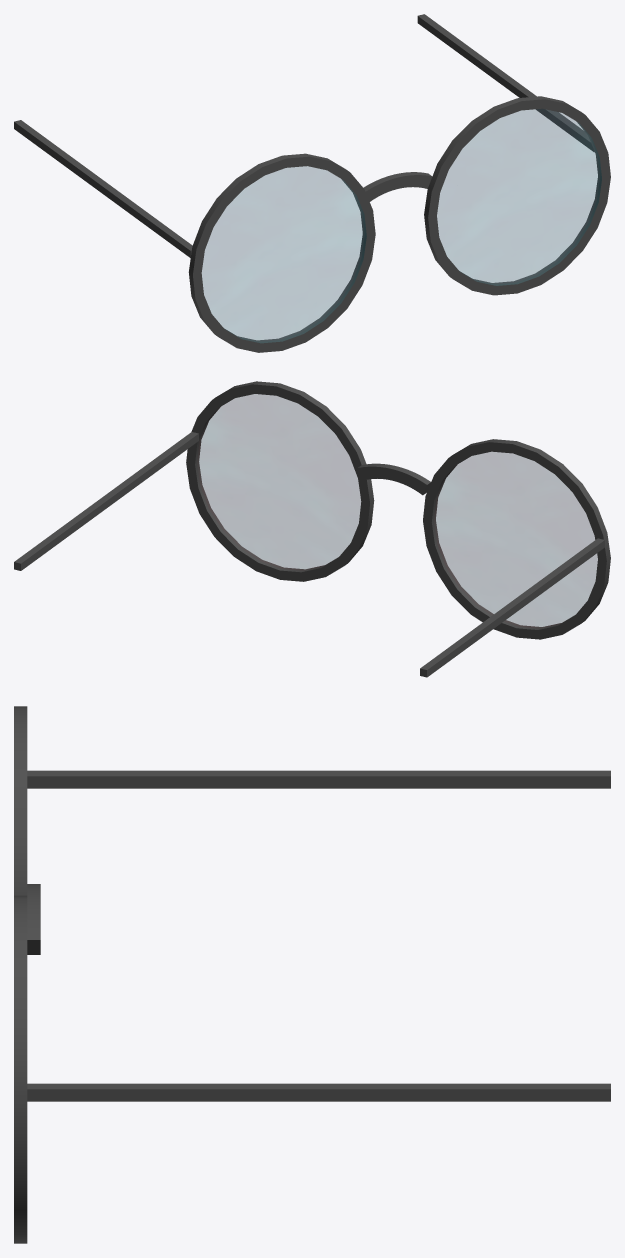
File: glasses.fbx
3 renders of one model, top to bottom at view 1: azimuth 30°, elevation 25°; view 2: azimuth 150°, elevation 25°; view 3: azimuth 270°, elevation 25°, orthographic. The views are drawn at different scales.
Parts seen in each view (by area): view 1: Glasses1; view 2: Glasses1; view 3: Glasses1.
Boxes of the visible parts, x1,y1,x2,y2 form: Glasses1: (14,14,610,352); Glasses1: (14,381,610,677); Glasses1: (14,706,610,1243).
Bounding box in the file's own units: 1.19 × 0.5199 × 0.89.
